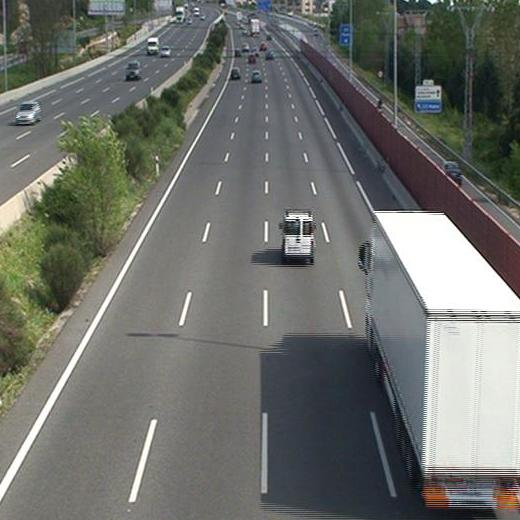car: (252, 69, 263, 83), (231, 68, 241, 79), (247, 53, 256, 64)
truck: (358, 211, 520, 509)
van: (279, 211, 315, 261)
